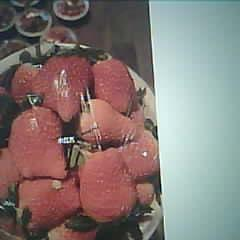straw-ripe: (10, 107, 67, 180), (81, 150, 135, 221)
